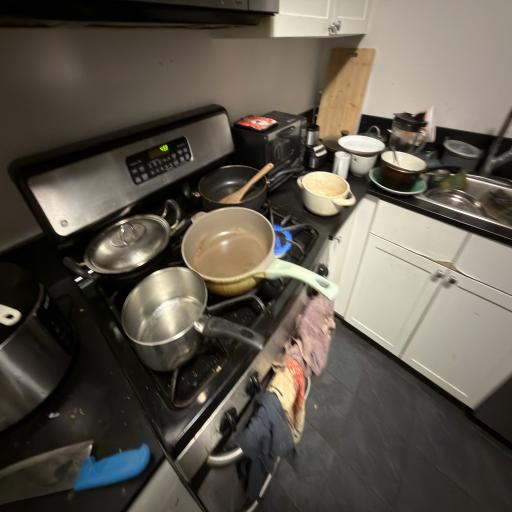Flame: (265, 221, 300, 255)
Pan: (169, 201, 342, 304), (115, 264, 281, 370), (72, 208, 195, 284), (186, 152, 283, 211), (300, 172, 364, 218)
Stove: (54, 179, 342, 382)
knife: (0, 443, 180, 512)
